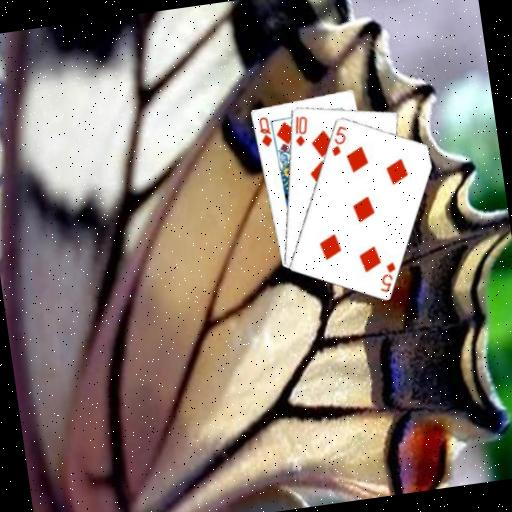10D: (289, 112, 312, 148)
5D: (373, 258, 401, 295), (326, 122, 352, 158)
QD: (254, 113, 274, 150)
